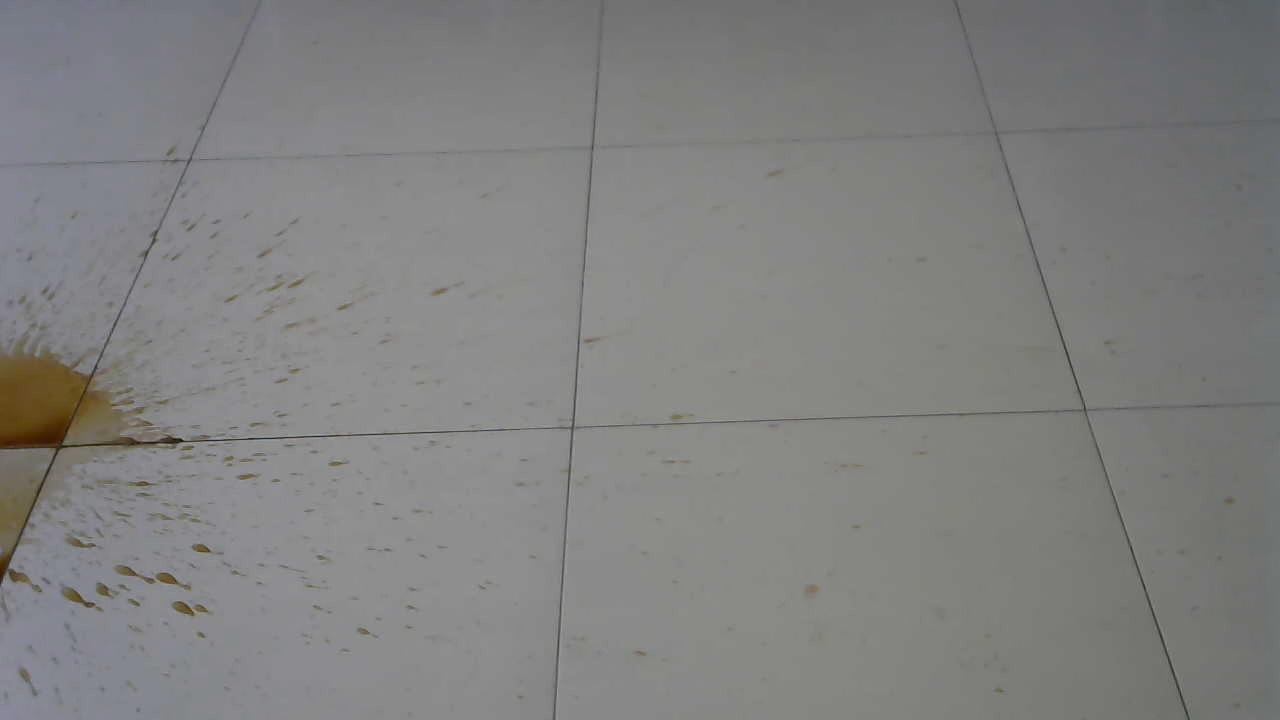dirty_floor: (3, 263, 330, 696)
